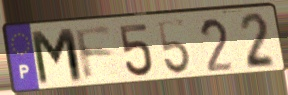2: (238, 11, 278, 73), (198, 16, 235, 74)
5: (155, 17, 194, 77), (117, 22, 156, 79)
F: (72, 26, 116, 85)
M: (28, 27, 87, 89)
